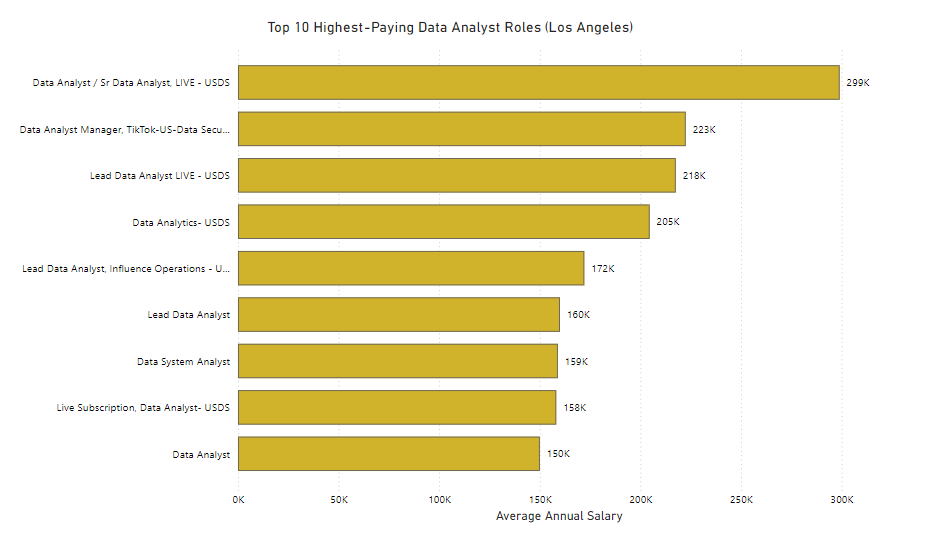

What the dashboard file says about the page in this screenshot:
{"tool":"powerbi","page":{"name":"Page 2","canvas":[1280,720],"ordinal":1},"visuals":[{"type":"clusteredBarChart","title":"Top 10 Highest-Paying Data Analyst Roles (Los Angeles)","fields":{"Category":["top_paying_data_analyst_jobs_remote_LA.job_title","top_paying_data_analyst_jobs_remote_LA.job_location"],"Y":["Sum(top_paying_data_analyst_jobs_remote_LA.salary_year_avg)"]},"box":[106.9,66.6,1027.2,584.8],"z":0}]}

Visuals, with their boxes on the page's 1280x720 design canvas (x1, y1, x2, y2). These are canvas units, not pixel positions in the 928x540 screenshot, which may show the page scaled, cropped or inside an application window:
"Top 10 Highest-Paying Data Analyst Roles (Los Angeles)" clusteredBarChart: bbox(107, 67, 1134, 651)
